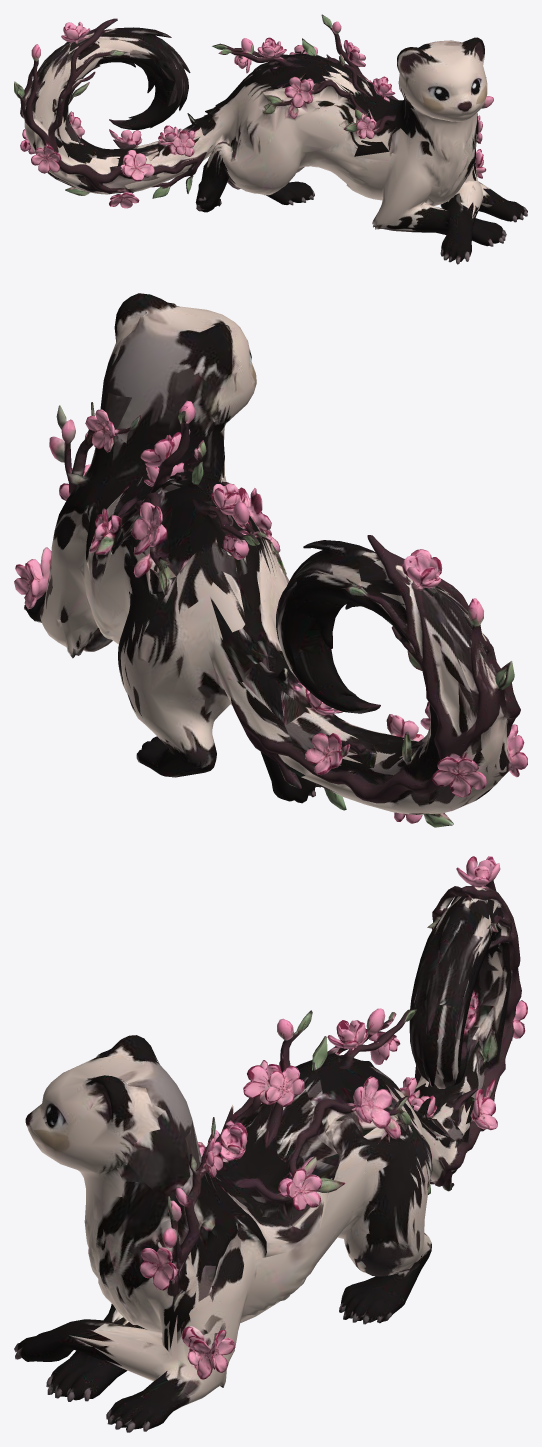
The picture shows the model from 3 angles, top to bottom: view 1: azimuth 30°, elevation 25°; view 2: azimuth 150°, elevation 25°; view 3: azimuth 270°, elevation 25°; orthographic projection. The views are drawn at different scales.
Visible parts, largest first — view 1: Mesh_0; view 2: Mesh_0; view 3: Mesh_0.
Boxes of the visible parts, box(x1,y1,x2,y2) form: Mesh_0: box(14, 14, 527, 264); Mesh_0: box(14, 293, 527, 827); Mesh_0: box(14, 856, 527, 1432).
Size of the model in its own units: 1.9 by 0.8817 by 1.32.
Materials: 1 (1 with a texture image).
